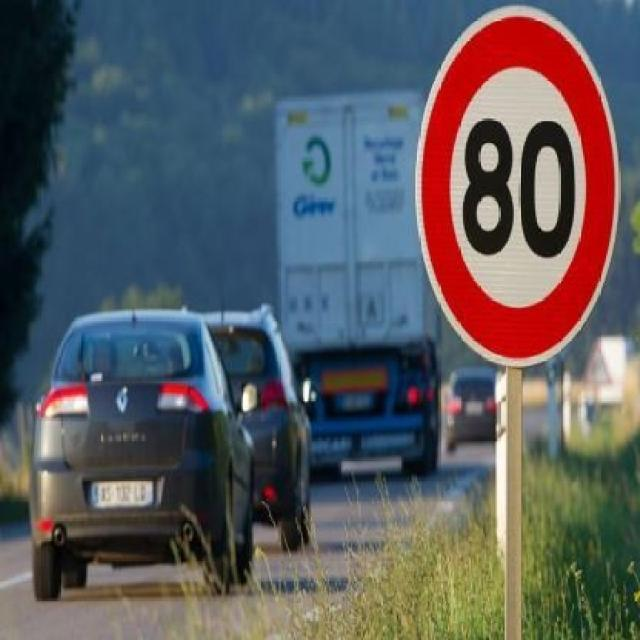forb_speed_over_80: (425, 6, 616, 365)
